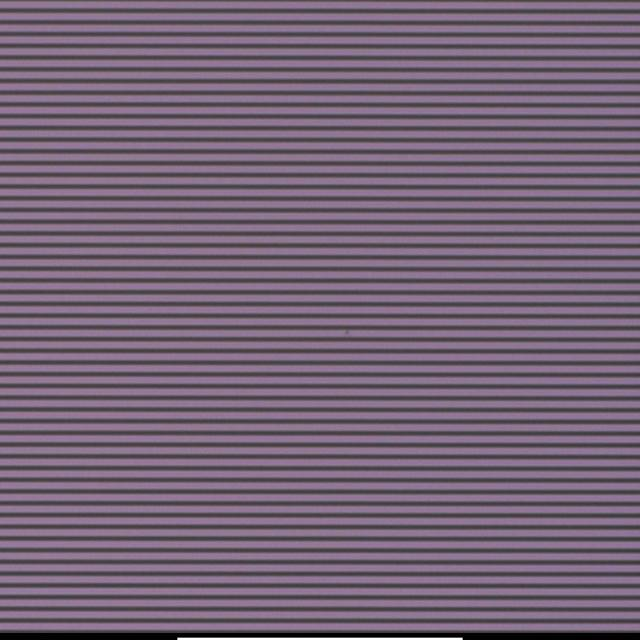03_intrusion: (0, 474, 26, 485)
nonvisual: (342, 326, 354, 339)
